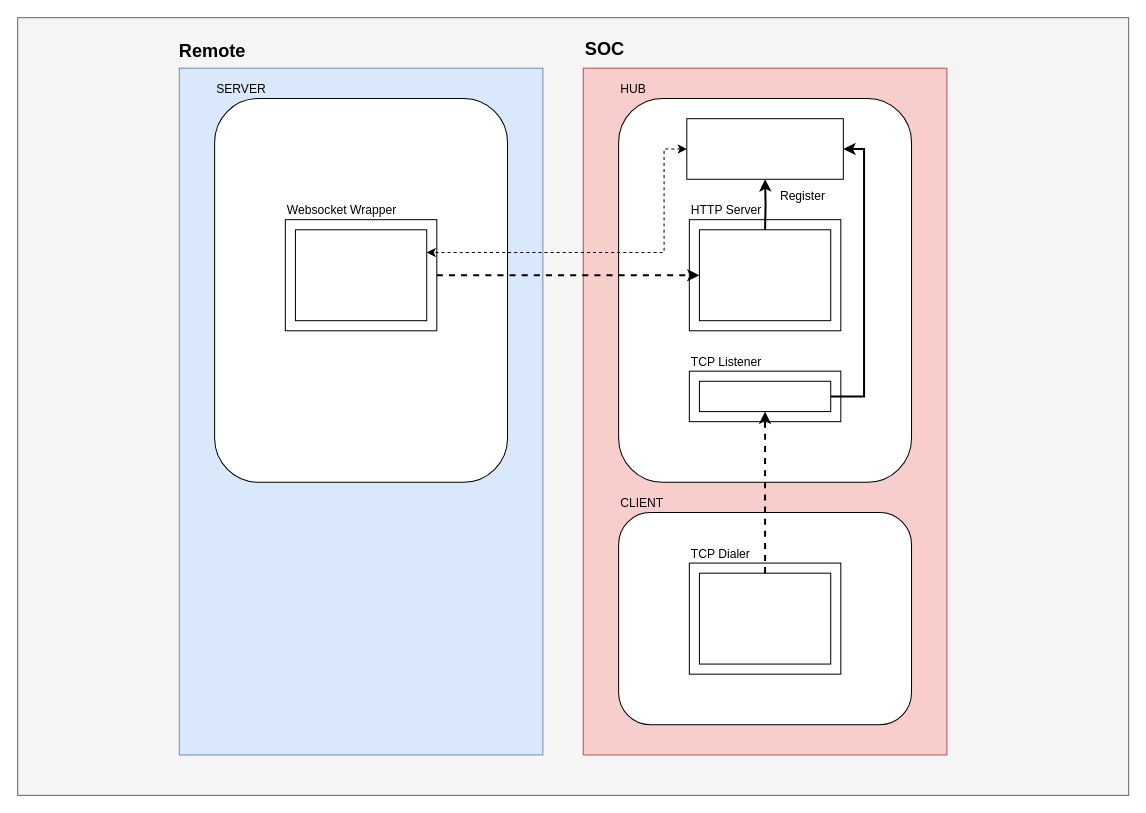
Some shapes in this 1146 by 813 pixel diagram are drawn without their labels. The centre of each missing label's shape, as x and y in pixels:
"Connection Pipe" belongs at (764,396).
"Connection Registrry" belongs at (764,148).
"gRPC Dialer" belongs at (764,618).
"gRPC Server" belongs at (360,275).
"Websocket Handler" belongs at (764,275).
